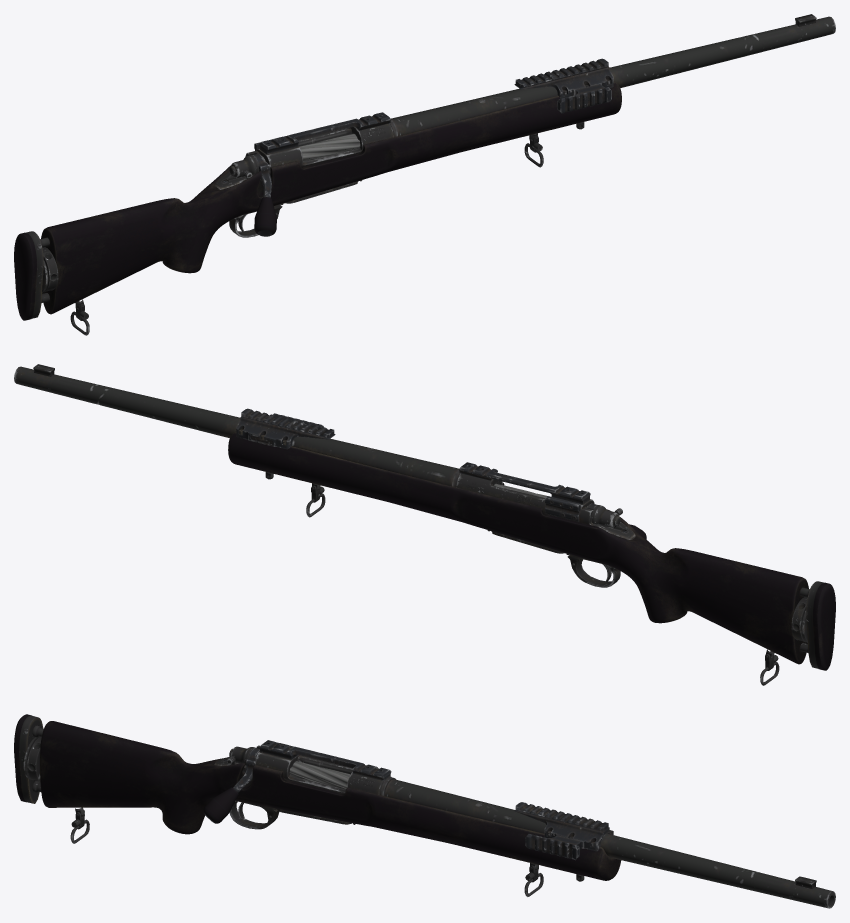
3 views of the same model, one above another, from view 1: azimuth 30°, elevation 25°; view 2: azimuth 150°, elevation 25°; view 3: azimuth 330°, elevation 25° (orthographic).
Visible parts, largest first — view 1: SKM_3P_M24.001_0; view 2: SKM_3P_M24.001_0; view 3: SKM_3P_M24.001_0.
Part boxes in pixels (x1=…): SKM_3P_M24.001_0: x1=14, y1=14, x2=835, y2=335; SKM_3P_M24.001_0: x1=14, y1=364, x2=835, y2=685; SKM_3P_M24.001_0: x1=14, y1=714, x2=835, y2=908.
Bounding box in the file's own units: 1.12 × 0.1895 × 0.1035.
Materials: 1 (1 with a texture image).
